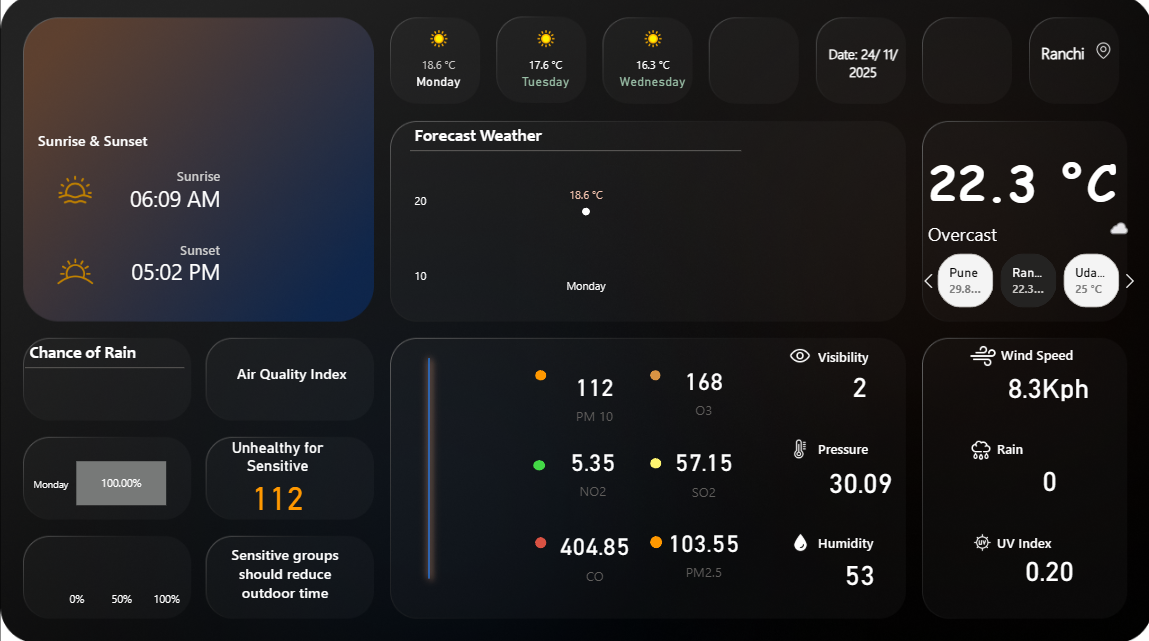

What the dashboard file says about the page in this screenshot:
{"tool":"powerbi","page":{"name":"Page 1","canvas":[1280,720],"ordinal":0},"visuals":[{"type":"advancedSlicerVisual","fields":{"Values":["Location.location.name"]},"box":[1017.2,281,255,70],"z":2000},{"type":"shape","box":[1031.5,152.6,211.9,106.8],"z":3000},{"type":"shape","box":[1031.5,242.4,115.8,42.2],"z":4000},{"type":"shape","box":[1049.1,43.9,156.1,34.2],"z":5000},{"type":"image","box":[1210.1,47.2,32.5,27.7],"z":6000},{"type":"shape","box":[917.5,44,82.6,57.5],"z":7000},{"type":"cardVisual","fields":{"Data":["Min(Current.current.condition.icon)"]},"box":[1184.1,211,90.7,94.3],"z":8000},{"type":"image","box":[868.9,381.1,40,36.7],"z":9000},{"type":"shape","box":[908.9,384.4,134.4,31.1],"z":10000},{"type":"image","box":[1070,486.7,40,35.6],"z":11000},{"type":"image","box":[868.9,487.8,40,31.1],"z":12000},{"type":"image","box":[1074.4,592.2,34.4,30],"z":13000},{"type":"image","box":[1072.2,380,40,40],"z":14000},{"type":"image","box":[874.4,592.2,30,30],"z":15000},{"type":"shape","box":[1112.2,383.3,125.6,30],"z":16000},{"type":"shape","box":[908.9,486.7,134.4,31.1],"z":17000},{"type":"shape","box":[1107.8,486.7,135.6,31.1],"z":18000},{"type":"shape","box":[908.9,591.1,134.4,31.1],"z":19000},{"type":"shape","box":[1107.8,592.2,134.4,30],"z":20000},{"type":"card","fields":{"Values":["Sum(Current.current.humidity)"]},"box":[927.8,620,54.4,43.3],"z":21000},{"type":"card","fields":{"Values":["Sum(Current.current.uv)"]},"box":[1122.2,616.7,87.8,42.2],"z":22000},{"type":"card","fields":{"Values":["Sum(Current.current.pressure_in)"]},"box":[908.9,518.9,94.4,42.2],"z":23000},{"type":"card","fields":{"Values":["Sum(Current.current.vis_km)"]},"box":[917.8,412.2,74.4,42.2],"z":24000},{"type":"card","fields":{"Values":["_Measures.Wind_Speed"]},"box":[1100,412.2,130,43.3],"z":25000},{"type":"card","fields":{"Values":["Sum(Forecast_day.forecast.forecastday.day.daily_chance_of_rain)"]},"box":[1118.9,515.6,94.4,43.3],"z":26000},{"type":"lineChart","title":"Forecast Weather","fields":{"Y":["Sum(Forecast_day.forecast.forecastday.day.avgtemp_c)"],"Category":["Forecast_day.Day_Name"]},"box":[456.1,143.6,368.1,196.6],"z":27000},{"type":"advancedSlicerVisual","fields":{"Values":["Forecast_day.Day_Name"]},"box":[426.4,24.2,360,96.1],"z":28000},{"type":"shape","box":[42.3,144.8,135,30.9],"z":29000},{"type":"shape","box":[111.8,190,132.7,68.2],"z":30000},{"type":"shape","box":[110.6,271.6,133.4,68.3],"z":31000},{"type":"shape","box":[136.4,184.5,108.2,30.9],"z":32000},{"type":"shape","box":[134.5,266.4,110,30],"z":33000},{"type":"image","box":[51.8,274.5,63.6,62.7],"z":34000},{"type":"image","box":[60,190.9,47.3,48.2],"z":35000},{"type":"hundredPercentStackedBarChart","title":"Chance of Rain","fields":{"Y":["Sum(Forecast_day.forecast.forecastday.day.daily_chance_of_rain)","Current.Left_value_Rain"],"Category":["Forecast_day.Day_Name"]},"box":[27.8,384.2,176.9,302.5],"z":36000},{"type":"shape","box":[263,404,135.6,28.7],"z":37000},{"type":"card","fields":{"Values":["Sum(Current.current.air_quality.pm10)"]},"box":[607.8,404,105.9,78.1],"z":38000},{"type":"shape","box":[594.5,600.9,12.7,12.7],"z":39000},{"type":"card","fields":{"Values":["Sum(Current.current.air_quality.o3)"]},"box":[729.1,398.2,106.4,78.2],"z":40000},{"type":"card","fields":{"Values":["Sum(Current.current.air_quality.so2)"]},"box":[729.1,489.1,106.4,77.3],"z":41000},{"type":"card","fields":{"Values":["Sum(Current.current.air_quality.no2)"]},"box":[605.5,488.2,106.4,78.2],"z":42000},{"type":"card","fields":{"Values":["Sum(Current.current.air_quality.co)"]},"box":[607.3,581.8,106.4,77.3],"z":43000},{"type":"card","fields":{"Values":["Sum(Current.current.air_quality.pm2_5)"]},"box":[729.1,578.2,106.4,78.2],"z":44000},{"type":"shape","box":[722.7,513.6,12.7,11.8],"z":45000},{"type":"shape","box":[594.5,415.5,12.7,11.8],"z":46000},{"type":"shape","box":[722.7,415.5,11.8,11.8],"z":47000},{"type":"shape","box":[592.7,515.5,13.6,11.8],"z":48000},{"type":"shape","box":[722.7,600,13.6,13.6],"z":49000},{"type":"shape","box":[456.1,393.2,42.2,263],"z":50000},{"type":"card","fields":{"Values":["Sum(Current.current.air_quality.pm10)"]},"box":[245.1,492,125.7,108.6],"z":51000},{"type":"shape","box":[236.1,609.6,162.5,63.7],"z":52000}]}

Visuals, with their boxes in screenshot pixels (x1, y1, x2, y2), scaled from the page's 1280x720 canvas onto the 1149x641 screenshot:
advancedSlicerVisual - Location.location.name: (x1=913, y1=250, x2=1142, y2=312)
shape: (x1=926, y1=136, x2=1116, y2=231)
shape: (x1=926, y1=216, x2=1030, y2=253)
shape: (x1=942, y1=39, x2=1082, y2=70)
image: (x1=1086, y1=42, x2=1115, y2=67)
shape: (x1=824, y1=39, x2=898, y2=90)
cardVisual - Min(Current.current.condition.icon): (x1=1063, y1=188, x2=1144, y2=272)
image: (x1=780, y1=339, x2=816, y2=372)
shape: (x1=816, y1=342, x2=937, y2=370)
image: (x1=960, y1=433, x2=996, y2=465)
image: (x1=780, y1=434, x2=816, y2=462)
image: (x1=964, y1=527, x2=995, y2=554)
image: (x1=962, y1=338, x2=998, y2=374)
image: (x1=785, y1=527, x2=812, y2=554)
shape: (x1=998, y1=341, x2=1111, y2=368)
shape: (x1=816, y1=433, x2=937, y2=461)
shape: (x1=994, y1=433, x2=1116, y2=461)
shape: (x1=816, y1=526, x2=937, y2=554)
shape: (x1=994, y1=527, x2=1115, y2=554)
card - Sum(Current.current.humidity): (x1=833, y1=552, x2=882, y2=591)
card - Sum(Current.current.uv): (x1=1007, y1=549, x2=1086, y2=587)
card - Sum(Current.current.pressure_in): (x1=816, y1=462, x2=901, y2=500)
card - Sum(Current.current.vis_km): (x1=824, y1=367, x2=891, y2=405)
card - _Measures.Wind_Speed: (x1=987, y1=367, x2=1104, y2=406)
card - Sum(Forecast_day.forecast.forecastday.day.daily_chance_of_rain): (x1=1004, y1=459, x2=1089, y2=498)
"Forecast Weather" lineChart: (x1=409, y1=128, x2=740, y2=303)
advancedSlicerVisual - Forecast_day.Day_Name: (x1=383, y1=22, x2=706, y2=107)
shape: (x1=38, y1=129, x2=159, y2=156)
shape: (x1=100, y1=169, x2=219, y2=230)
shape: (x1=99, y1=242, x2=219, y2=303)
shape: (x1=122, y1=164, x2=220, y2=192)
shape: (x1=121, y1=237, x2=219, y2=264)
image: (x1=46, y1=244, x2=104, y2=300)
image: (x1=54, y1=170, x2=96, y2=213)
"Chance of Rain" hundredPercentStackedBarChart: (x1=25, y1=342, x2=184, y2=611)
shape: (x1=236, y1=360, x2=358, y2=385)
card - Sum(Current.current.air_quality.pm10): (x1=546, y1=360, x2=641, y2=429)
shape: (x1=534, y1=535, x2=545, y2=546)
card - Sum(Current.current.air_quality.o3): (x1=654, y1=355, x2=750, y2=424)
card - Sum(Current.current.air_quality.so2): (x1=654, y1=435, x2=750, y2=504)
card - Sum(Current.current.air_quality.no2): (x1=544, y1=435, x2=639, y2=504)
card - Sum(Current.current.air_quality.co): (x1=545, y1=518, x2=641, y2=587)
card - Sum(Current.current.air_quality.pm2_5): (x1=654, y1=515, x2=750, y2=584)
shape: (x1=649, y1=457, x2=660, y2=468)
shape: (x1=534, y1=370, x2=545, y2=380)
shape: (x1=649, y1=370, x2=659, y2=380)
shape: (x1=532, y1=459, x2=544, y2=469)
shape: (x1=649, y1=534, x2=661, y2=546)
shape: (x1=409, y1=350, x2=447, y2=584)
card - Sum(Current.current.air_quality.pm10): (x1=220, y1=438, x2=333, y2=535)
shape: (x1=212, y1=543, x2=358, y2=599)
